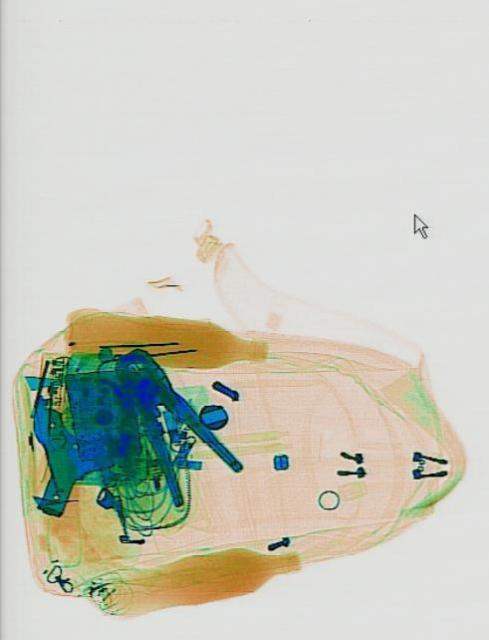Pliers: (97, 326, 242, 518)
